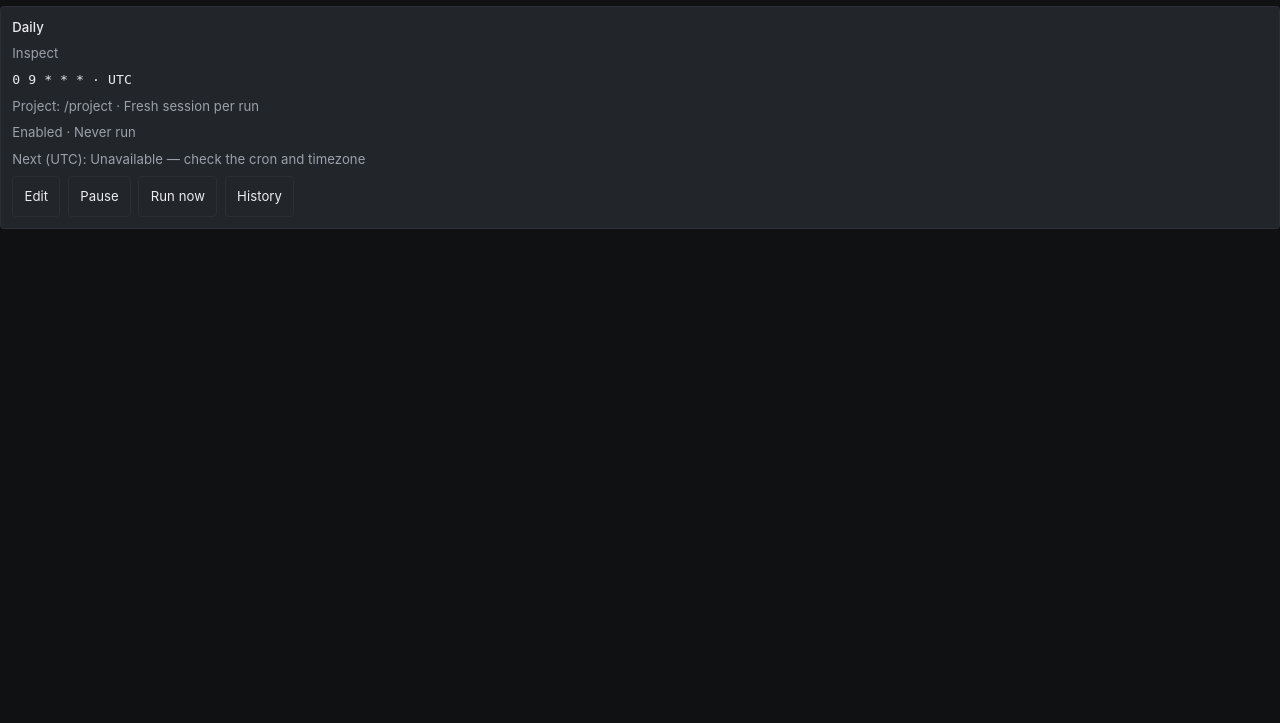
Test case: reloads the saved revision explicitly after an edit conflict
The width and height of the screenshot is (1280, 723).
Step 1. Click the button with aria-label "Edit Daily" → (36, 196), box [12,176,60,217]
(page scrolled)
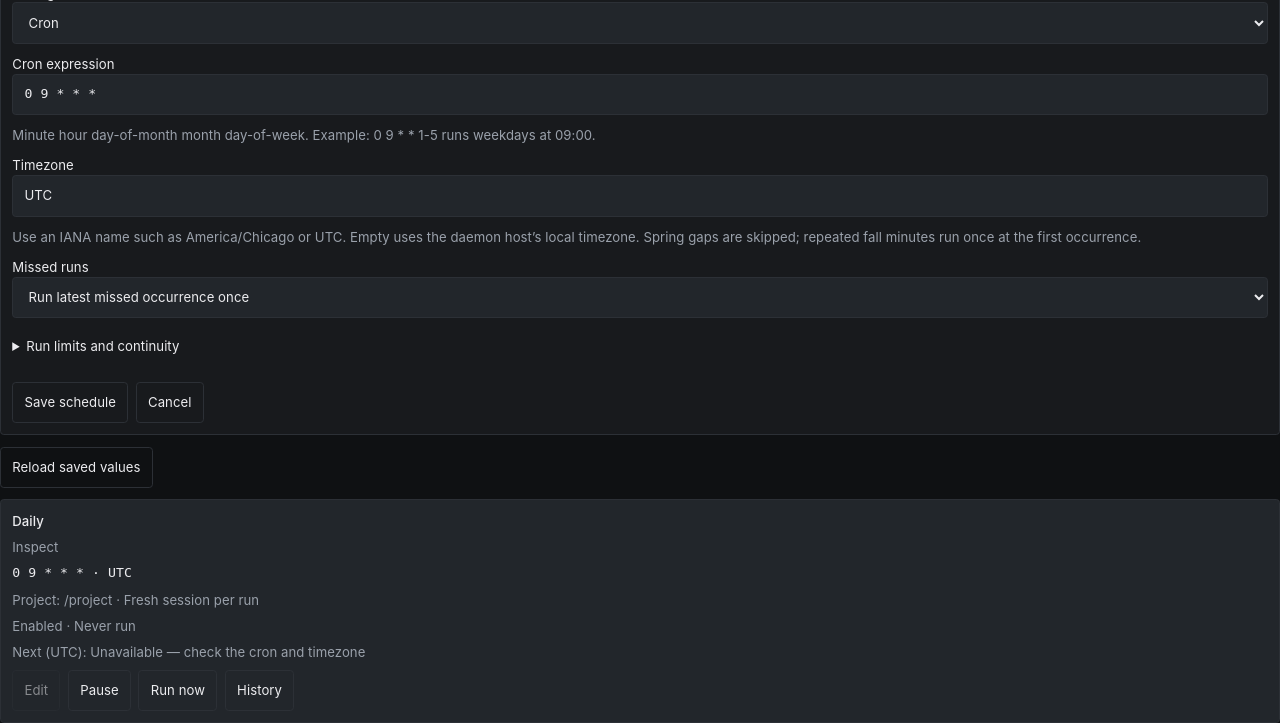
Step 2. Click the button "Save schedule" → (70, 403), box [12,382,128,423]
(page scrolled)
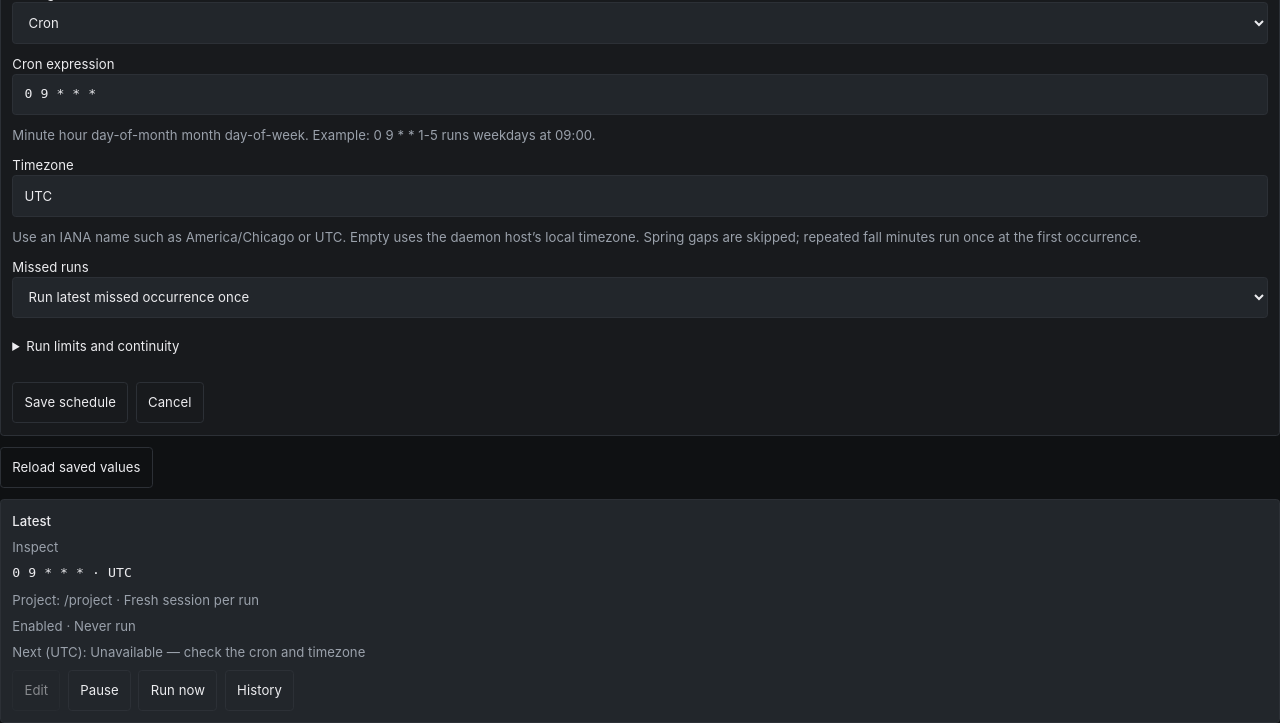
Expected: the heading "Latest" is shown, [12,513,51,529]
Step 3. Click the button "Reload saved values" → (76, 467), box [0,447,153,488]
(page scrolled)
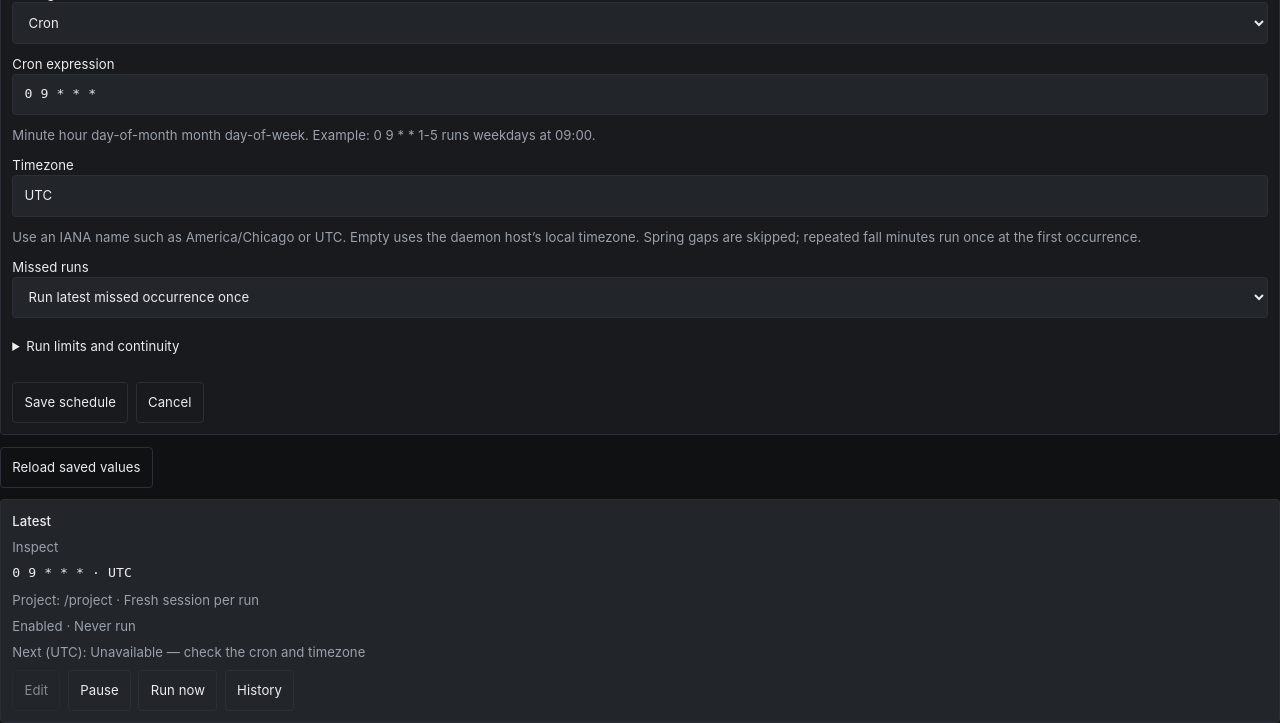
Step 4. Click the button "Save schedule" → (70, 403), box [12,382,128,423]
(page scrolled)
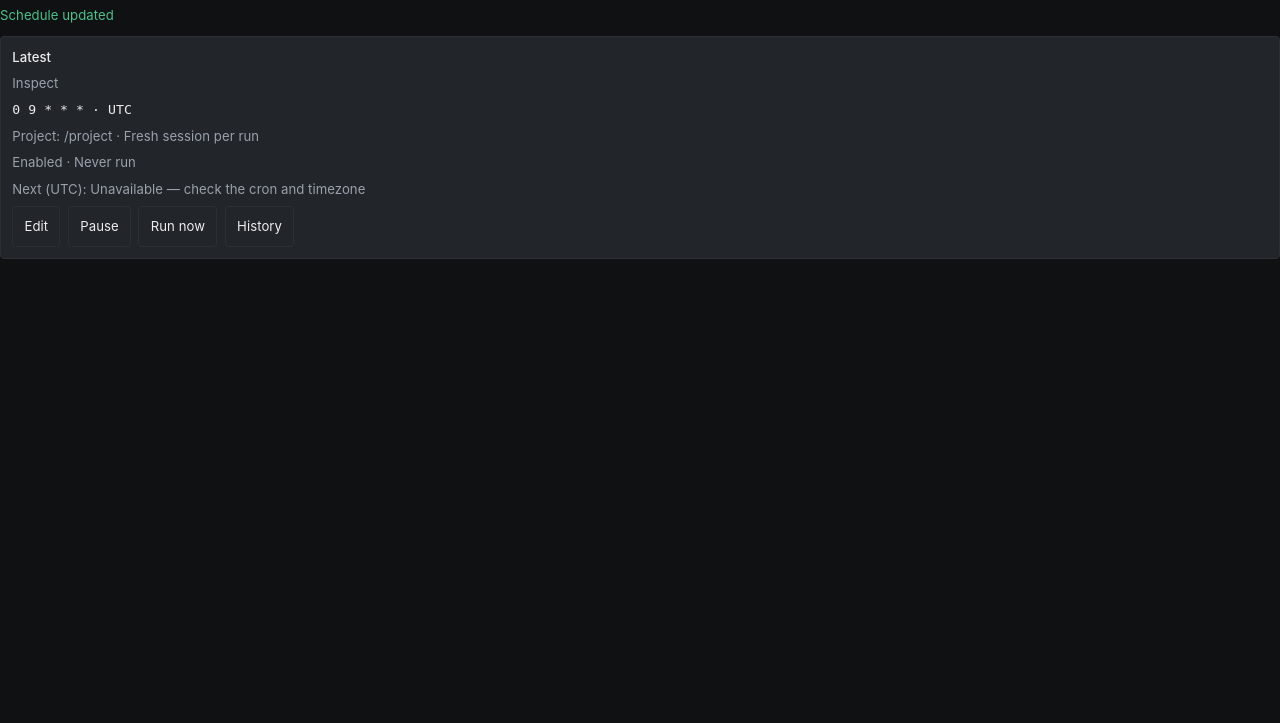
Expected: the text "Schedule updated" is shown, [0,7,114,23]
